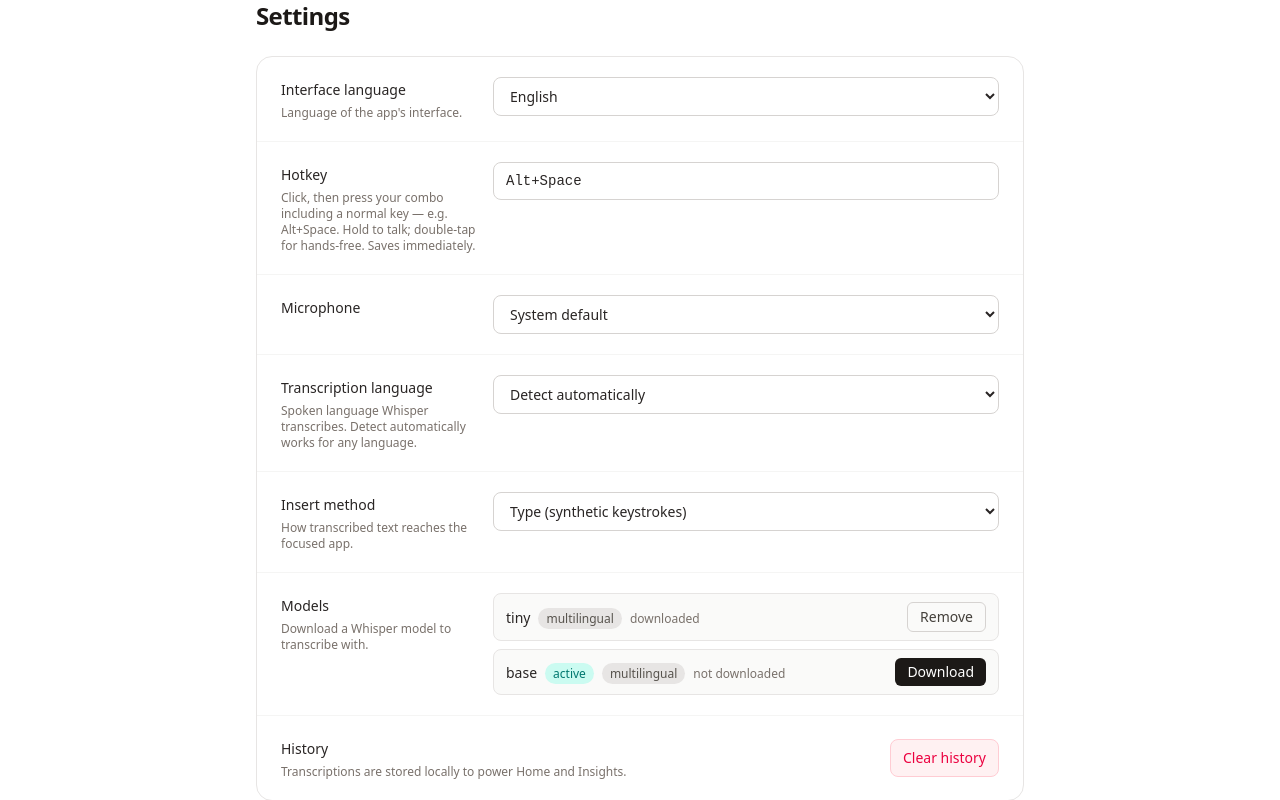
Test: Settings › clicking clear history opens the confirm modal
Click the button "Clear history": (944, 758) [890, 739, 999, 777]
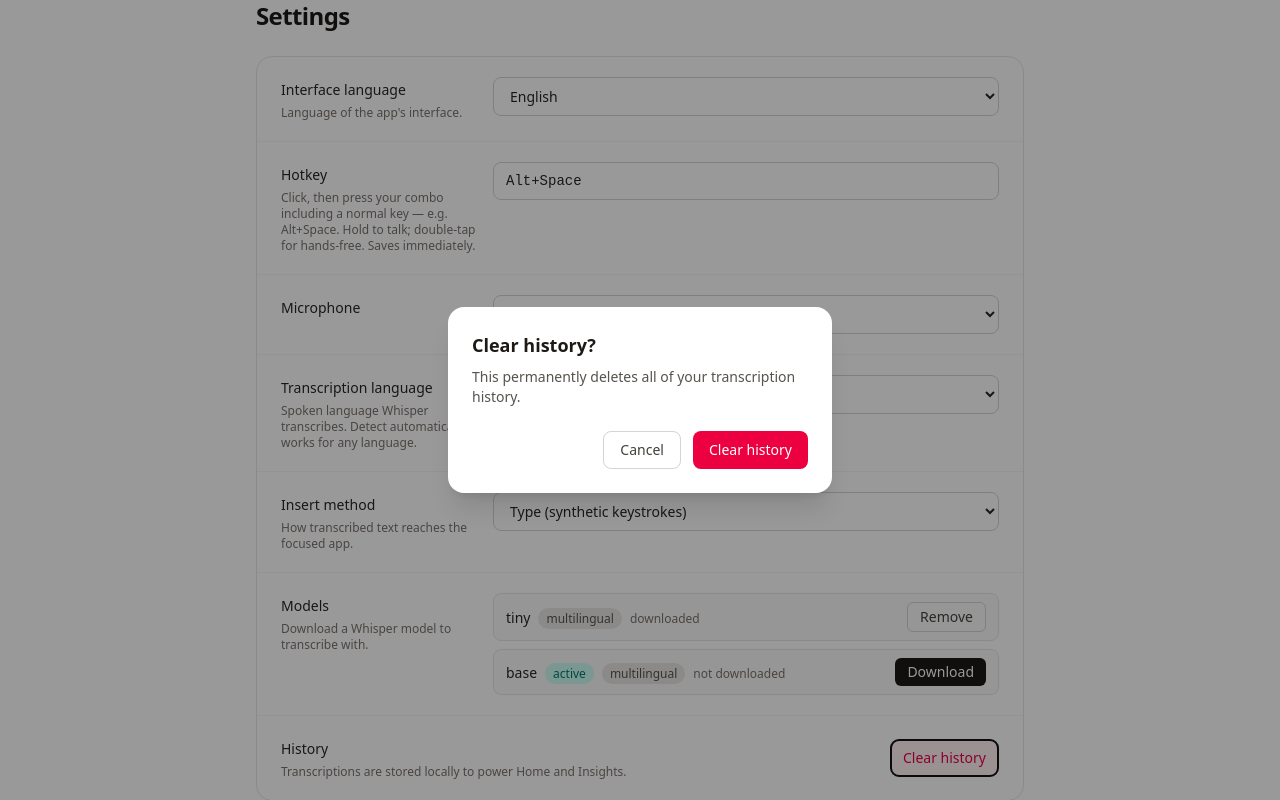
Check: the dialog is shown, box [448, 307, 832, 493]
Check: the text "This permanently deletes all of your transcription history." is shown, box [472, 367, 808, 407]
